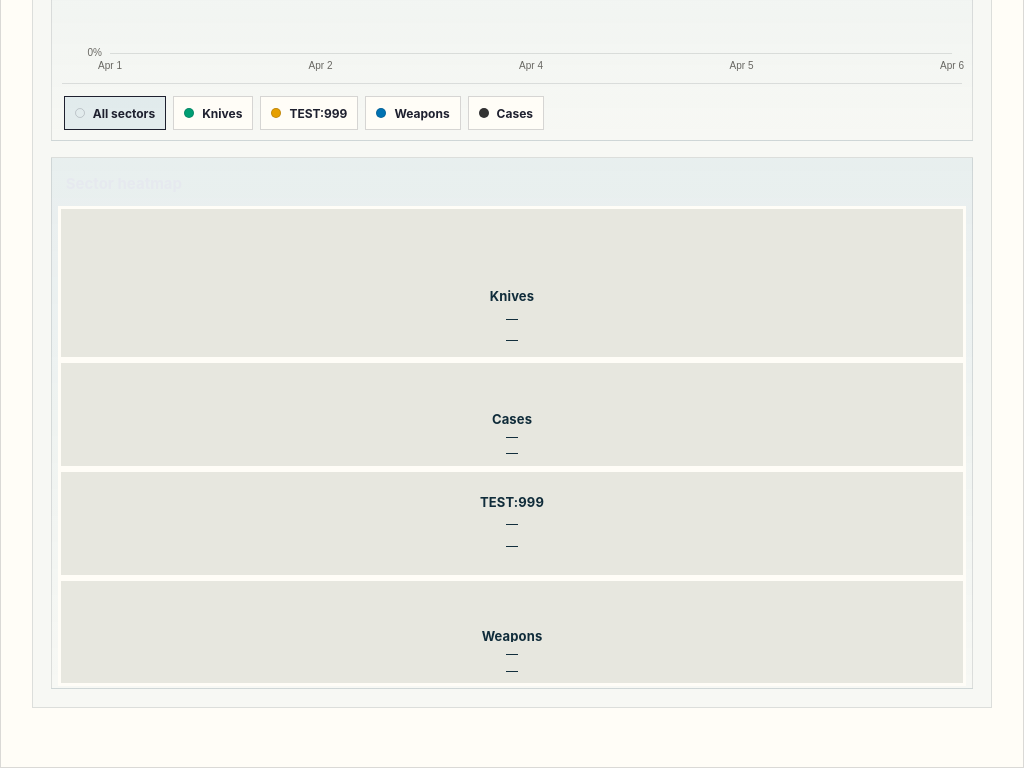
F02: a native problem state offers Retry that recovers on the same publication
The image size is (1024, 768).
(page scrolled)
Click the button with test id "sector-tile-WEAPON": (512, 632) [61,581,963,683]
(page scrolled)
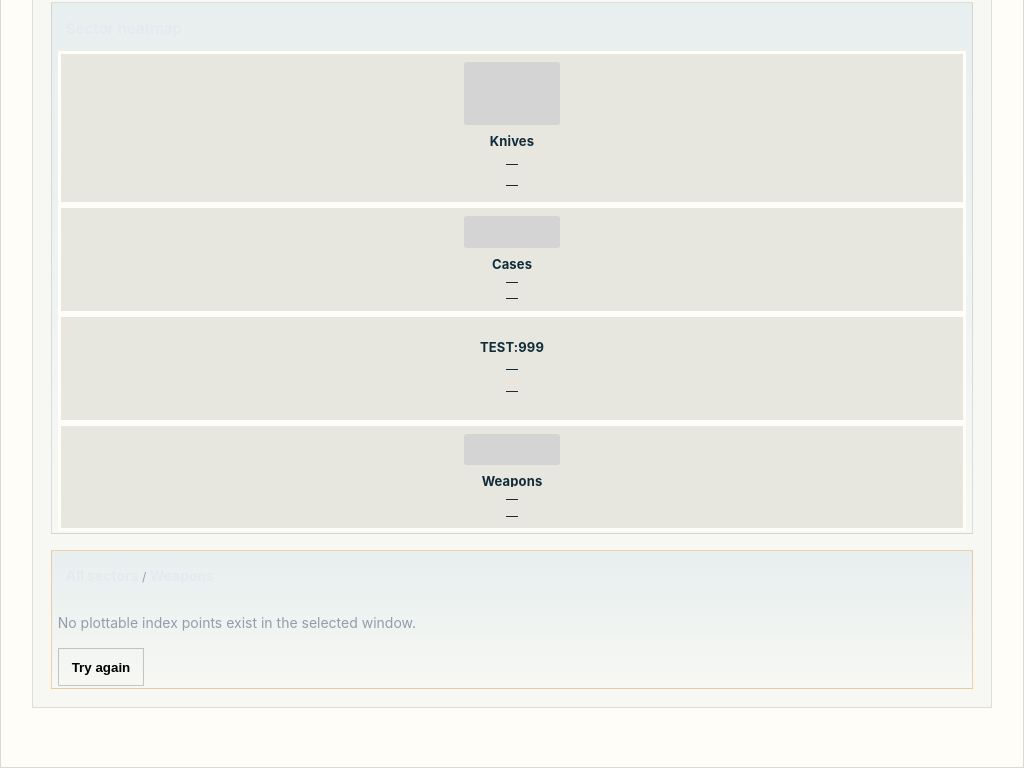
Click the button "Try again": (101, 667) [58,648,144,686]
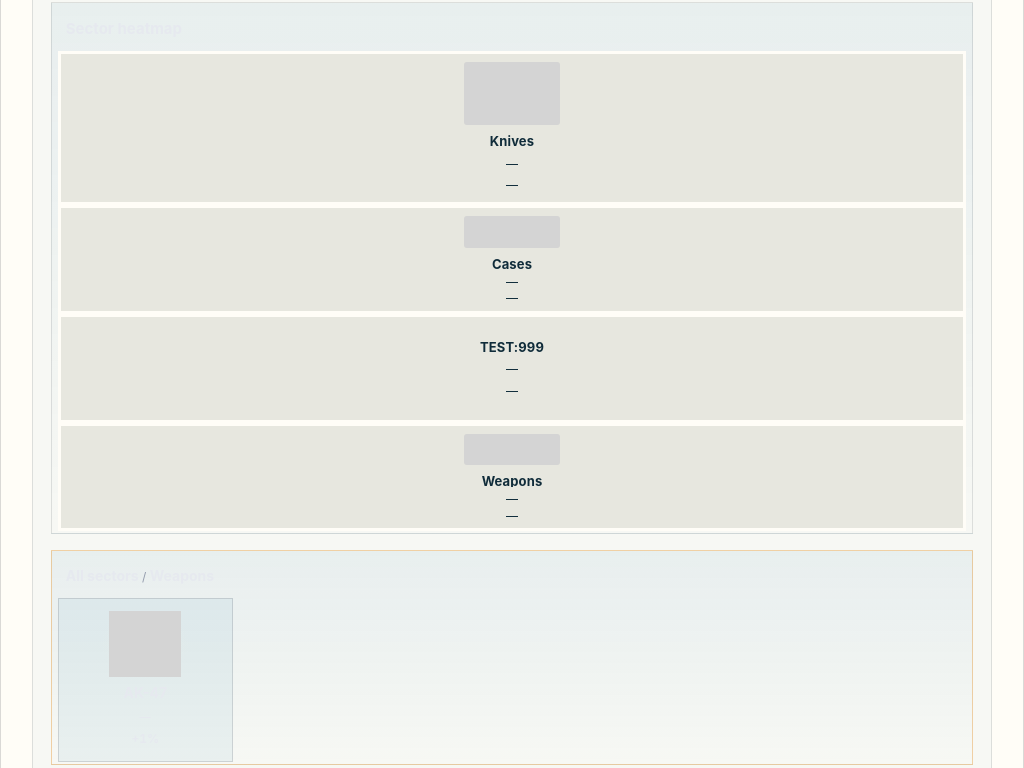
Check: the button with test id "sector-tile-WEAPON_MODEL:7" is shown, box [58,598,233,762]
